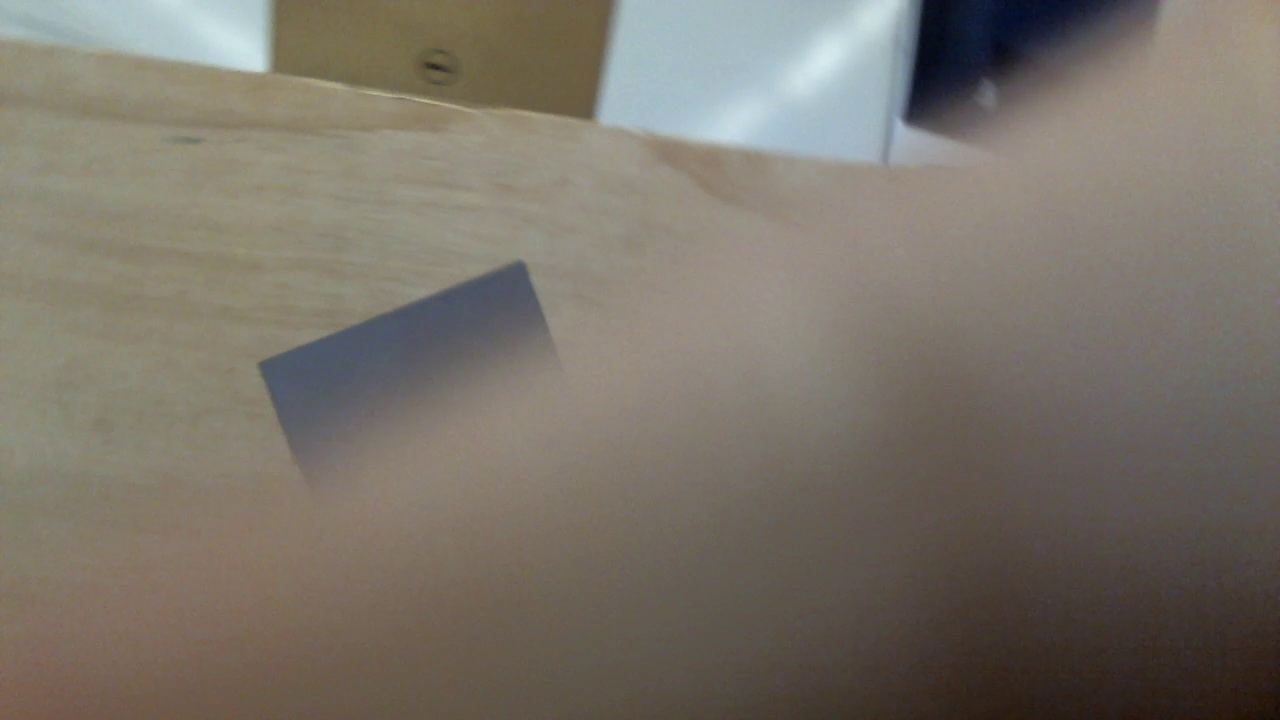Tape: (260, 261, 570, 496)
